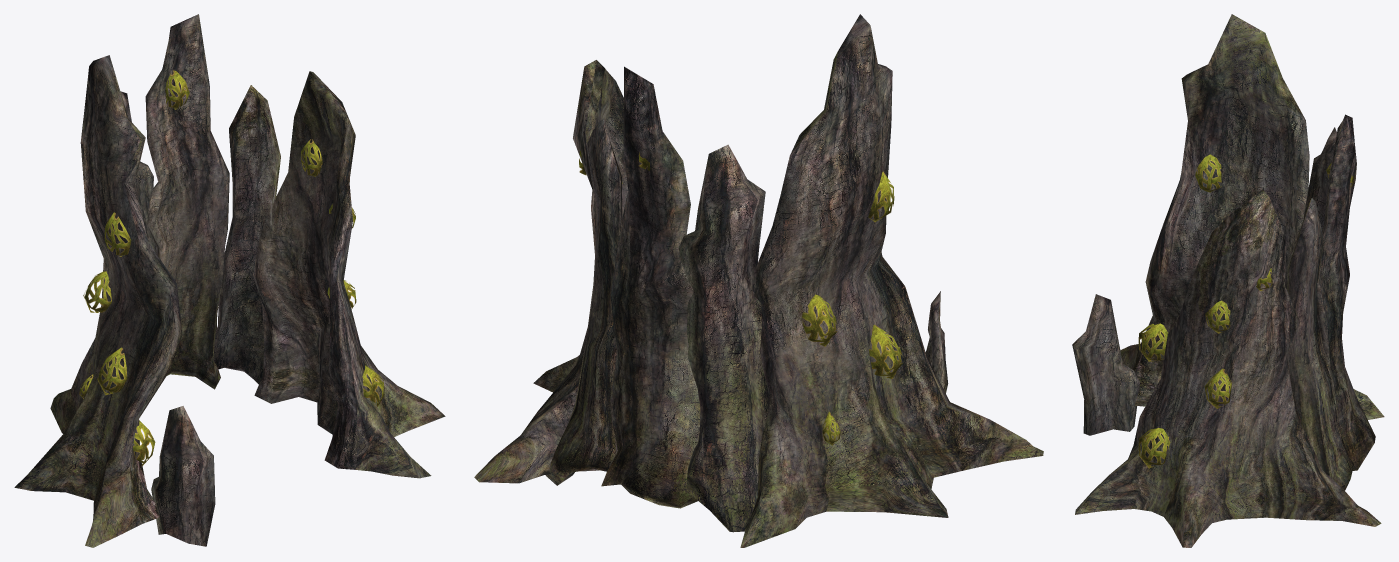
Rendered from turtle_statue_tree.glb.
The picture shows the model from 3 angles, left to right: view 1: azimuth 30°, elevation 25°; view 2: azimuth 150°, elevation 25°; view 3: azimuth 270°, elevation 25°; orthographic projection. The views are drawn at different scales.
Visible parts, largest first — view 1: objObject08, objObject09, objObject10, objObject11, objt02, Object01, objt1; view 2: objObject09, objObject10, objt1, objObject11, objObject08, Object01, objt02; view 3: objObject08, objObject09, objObject11, objObject10, objt02, Object01, objt1.
Boxes of the visible parts, box(x1,y1,x2,y2) form: objObject08: box(253, 71, 445, 478); objObject09: box(14, 55, 182, 547); objObject10: box(145, 14, 229, 389); objObject11: box(213, 85, 280, 384); objt02: box(151, 406, 215, 546); Object01: box(79, 70, 384, 465); objt1: box(120, 91, 156, 253); objObject09: box(740, 14, 1043, 547); objObject10: box(601, 66, 700, 508); objt1: box(678, 144, 770, 532); objObject11: box(545, 118, 622, 485); objObject08: box(474, 60, 628, 483); Object01: box(579, 150, 902, 445); objt02: box(925, 291, 948, 393); objObject08: box(1075, 189, 1381, 547); objObject09: box(1120, 14, 1384, 419); objObject11: box(1287, 198, 1353, 490); objObject10: box(1317, 114, 1375, 470); objt02: box(1072, 294, 1139, 435); Object01: box(1138, 154, 1353, 468); objt1: box(1303, 127, 1336, 230).
Bounding box in the file's own units: 52.22 × 54.89 × 37.36.
2 materials, 2 textured.
